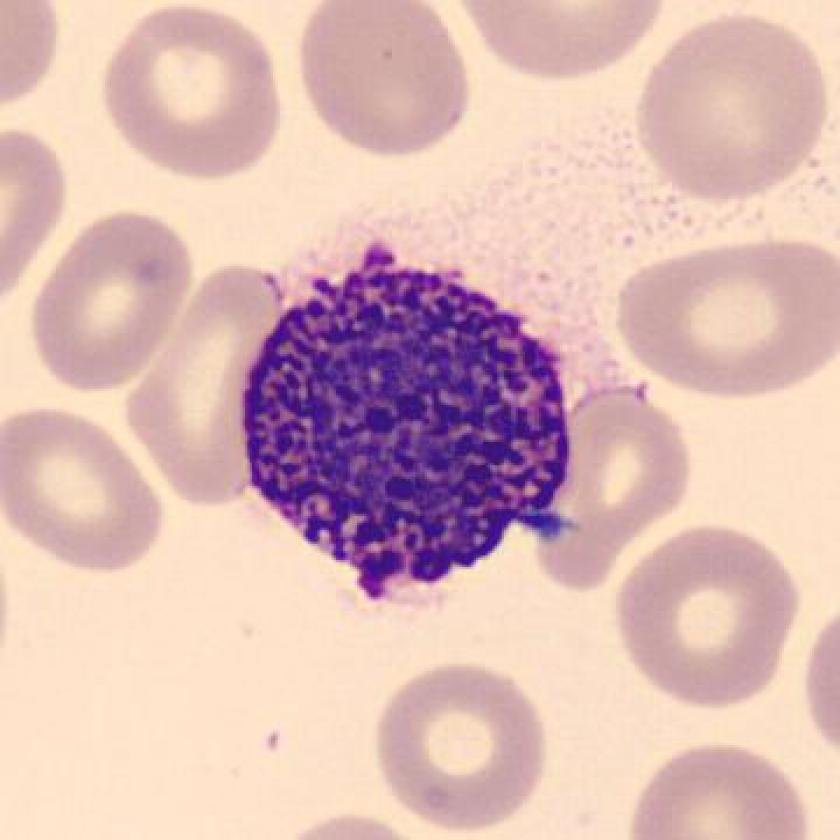basophil: (244, 251, 582, 591)
